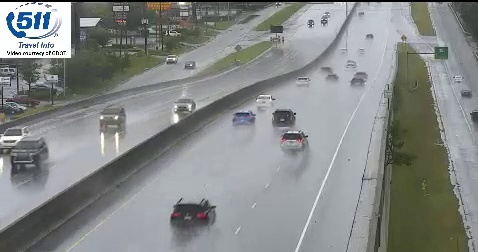car: (171, 197, 216, 225), (280, 130, 308, 151), (272, 109, 294, 126), (233, 111, 255, 127), (255, 94, 272, 109), (350, 76, 365, 87), (295, 76, 311, 86)
